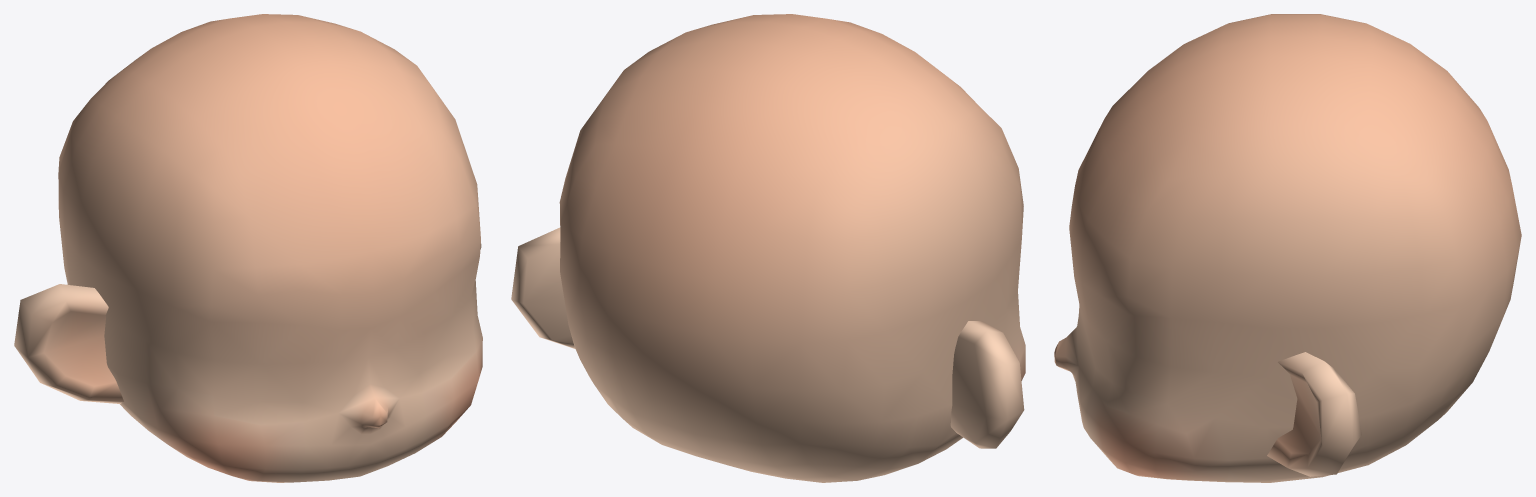
Rendered from Head.fbx.
3 views of the same model, side by side, from view 1: azimuth 30°, elevation 25°; view 2: azimuth 150°, elevation 25°; view 3: azimuth 270°, elevation 25° (orthographic). The views are drawn at different scales.
Parts seen in each view (by area): view 1: Head; view 2: Head; view 3: Head.
Part boxes in pixels (x1,y1,x2,y2): Head: (14, 14, 482, 482); Head: (511, 14, 1025, 482); Head: (1054, 14, 1521, 482).
Size of the model in its own units: 64.19 by 52.19 by 53.9.
